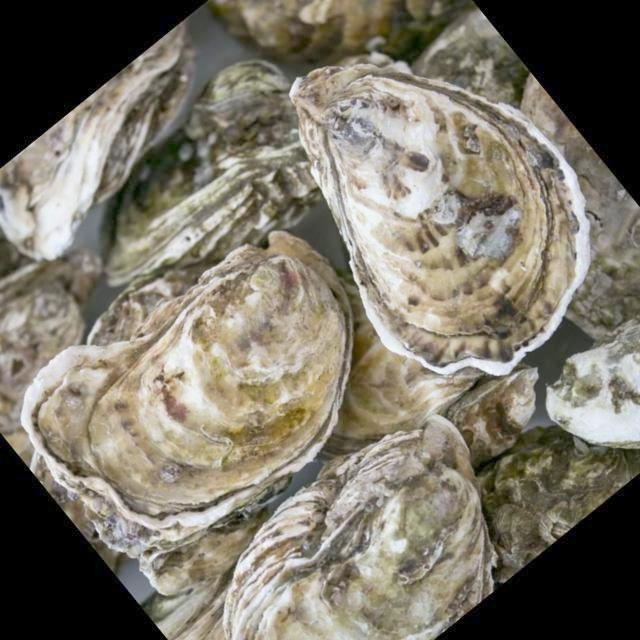Oyster-Closed: (22, 230, 354, 528), (290, 66, 592, 376), (224, 413, 496, 640), (99, 61, 329, 290), (0, 23, 194, 260)
